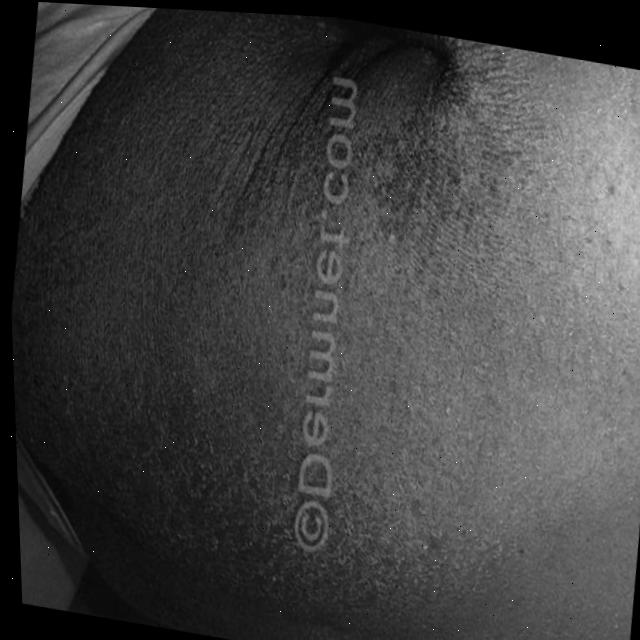Eczema: (18, 1, 587, 640)
